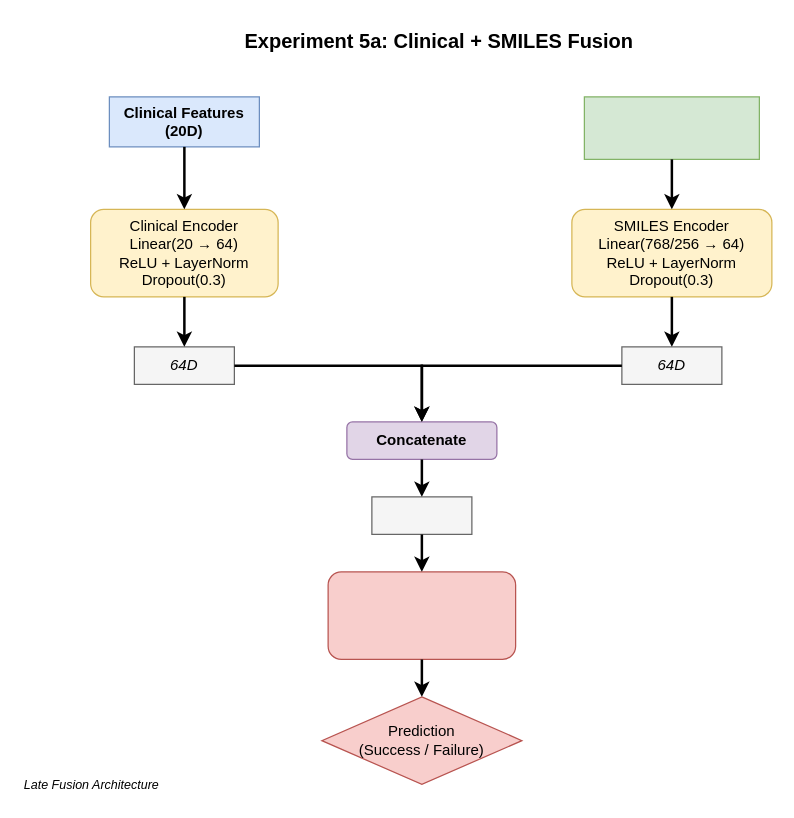
This 794x818 diagram has some shape labels left out. Each missing label, with the centre of its shape:
128D: the point at 421,515
Classifier Linear(128 → 64) ReLU + LayerNorm + Dropout Linear(64 → 2): the point at 421,615
SMILES Embedding (768D ChemBERTa or 256D SMILES-Trf): the point at 671,127
